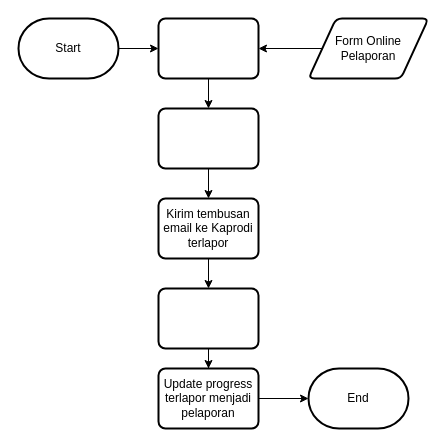
Image size: 446x446. Some labels were removed from this diagram. Each missing label, with the box of its shape:
Kirim notifikasi ke Sekretaris DEM: (157, 107, 259, 169)
Kirim tembusan email ke BAAK: (157, 287, 259, 349)
Submit Form Pelaporan: (157, 17, 259, 79)
